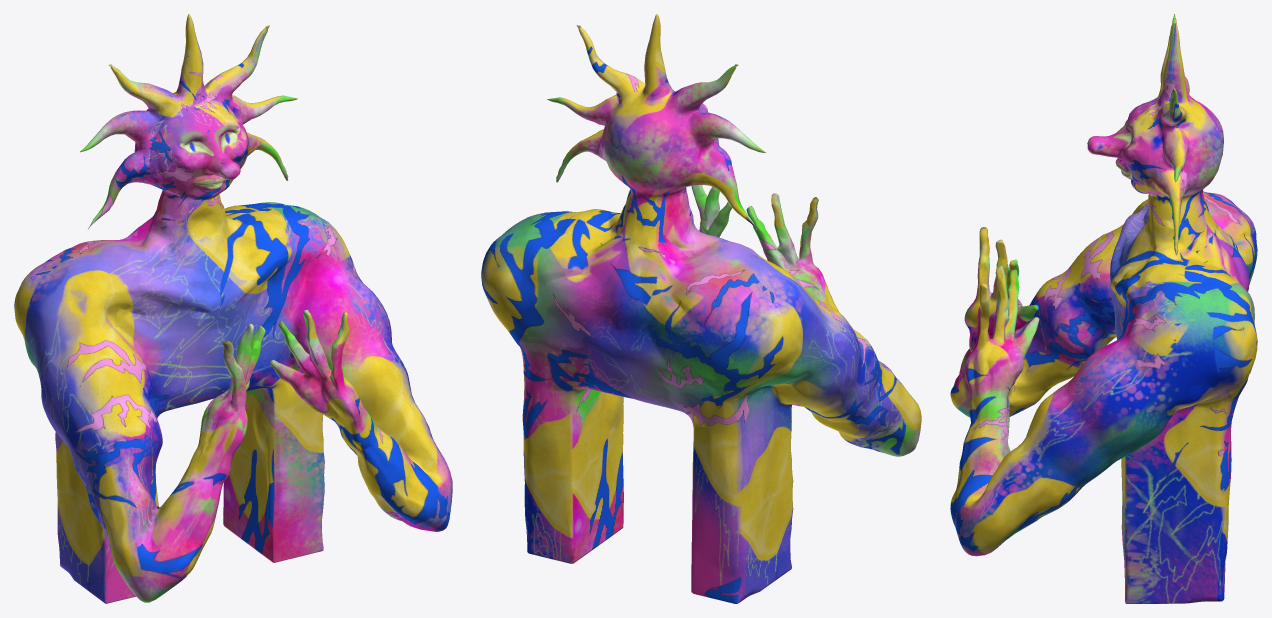
File: shr-sun-man.glb
3 renders of one model, left to right at view 1: azimuth 30°, elevation 25°; view 2: azimuth 150°, elevation 25°; view 3: azimuth 270°, elevation 25°, orthographic. The views are drawn at different scales.
Parts seen in each view (by area): view 1: geometry_0; view 2: geometry_0; view 3: geometry_0.
Boxes of the visible parts, x1=… form: geometry_0: x1=14, y1=14, x2=452, y2=603; geometry_0: x1=481, y1=14, x2=921, y2=603; geometry_0: x1=950, y1=14, x2=1257, y2=603.
Size of the model in its own units: 0.6397 by 1 by 0.5247.
1 material, 1 textured.
